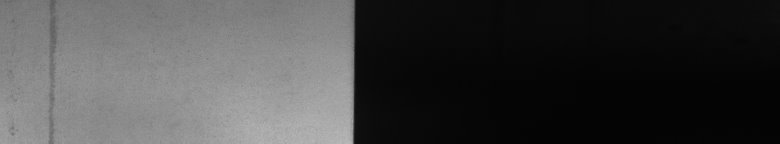hd: (10, 4, 60, 136)
